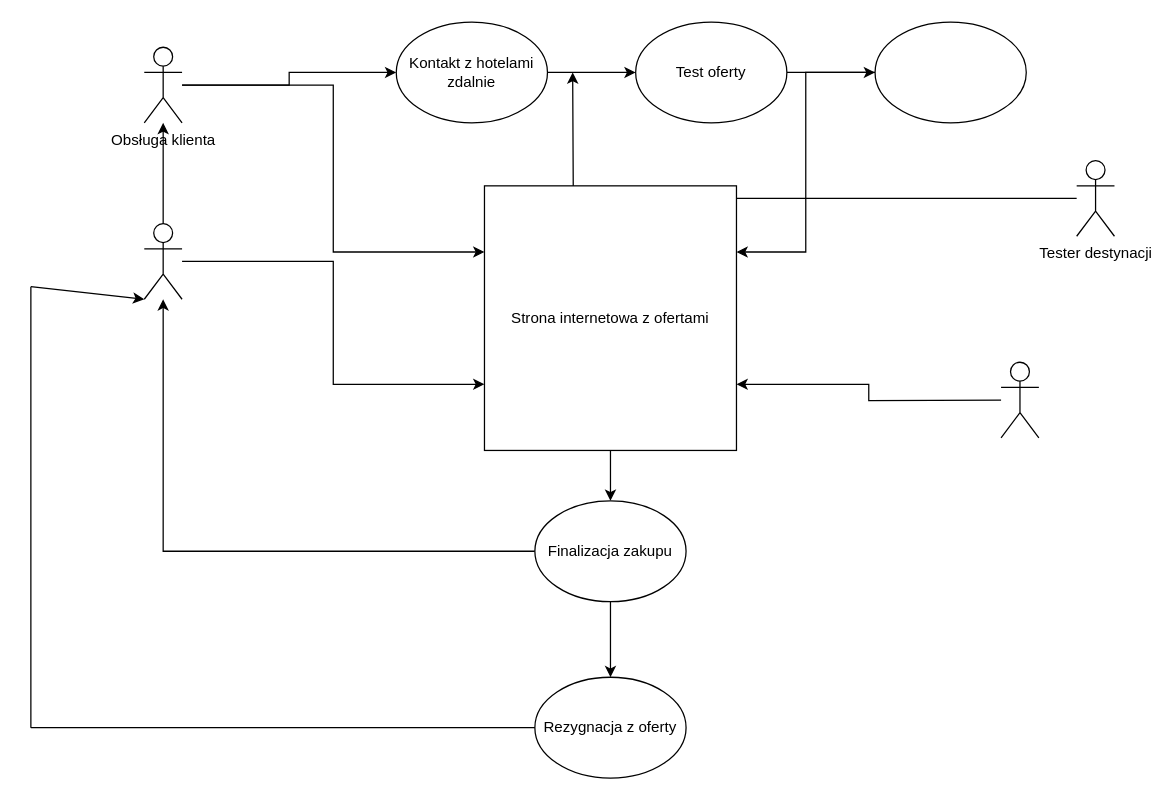
Some shapes in this 1173 by 800 pixel diagram are drawn without their labels. Each missing label, with the centre of its shape:
"Dodanie oferty do internetowej bazy danych" belongs at point 950,72.
"Klient" belongs at point 162,260.
"Zaprzyjaźniona firma transportowa" belongs at point 1019,399.
